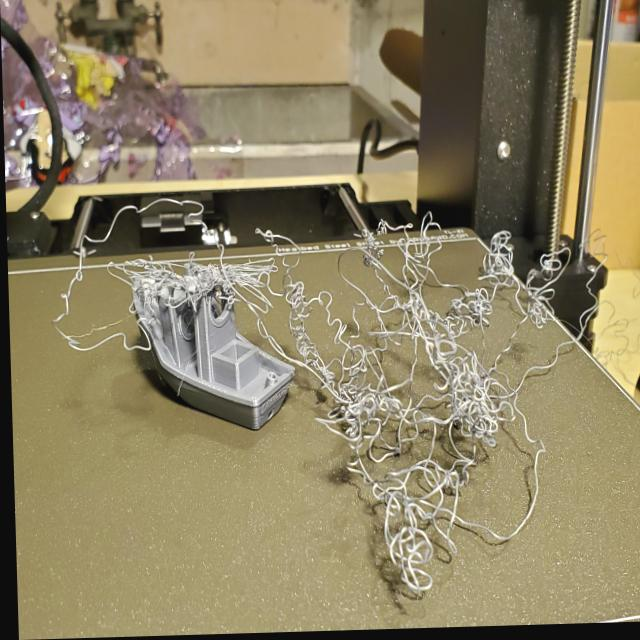spaghetti: (37, 158, 581, 595)
